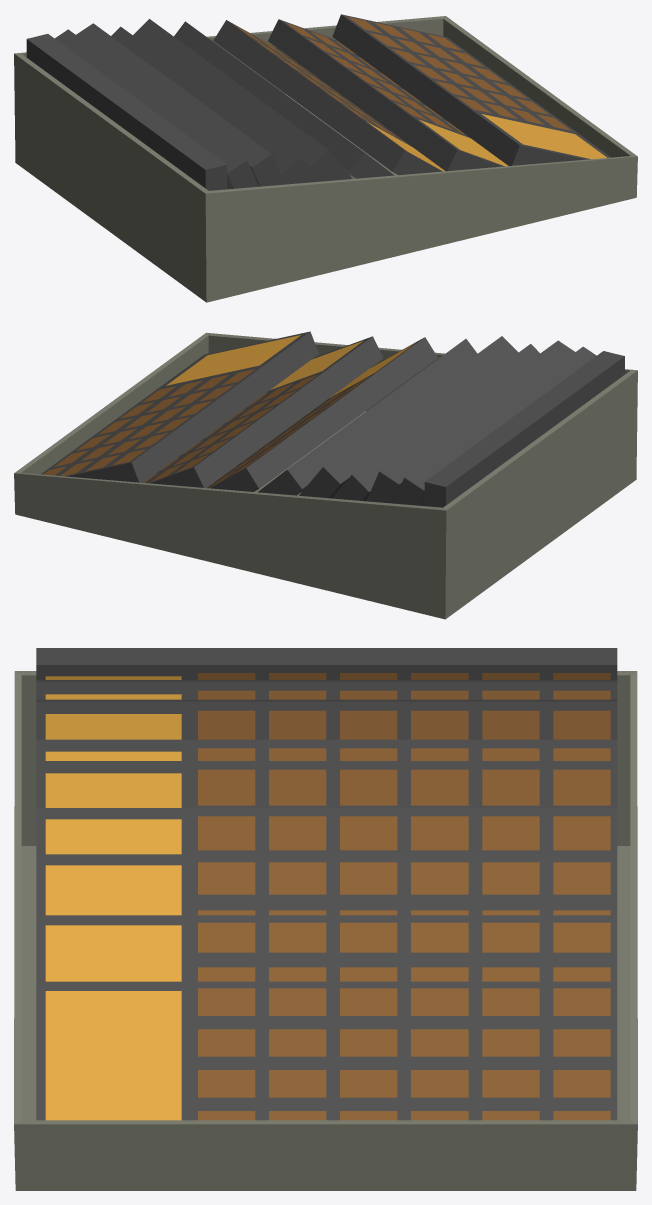
The model's file is BoxLarge.fbx.
3 renders of one model, top to bottom at view 1: azimuth 30°, elevation 25°; view 2: azimuth 150°, elevation 25°; view 3: azimuth 270°, elevation 25°, orthographic. The views are drawn at different scales.
Visible parts, largest first — view 1: Box_gross; view 2: Box_gross; view 3: Box_gross.
Boxes of the visible parts, left/top/right/bottom form: Box_gross: left=14, top=14, right=637, bottom=302; Box_gross: left=14, top=331, right=637, bottom=619; Box_gross: left=14, top=648, right=637, bottom=1190.
Size of the model in its own units: 205 by 57.45 by 158.
